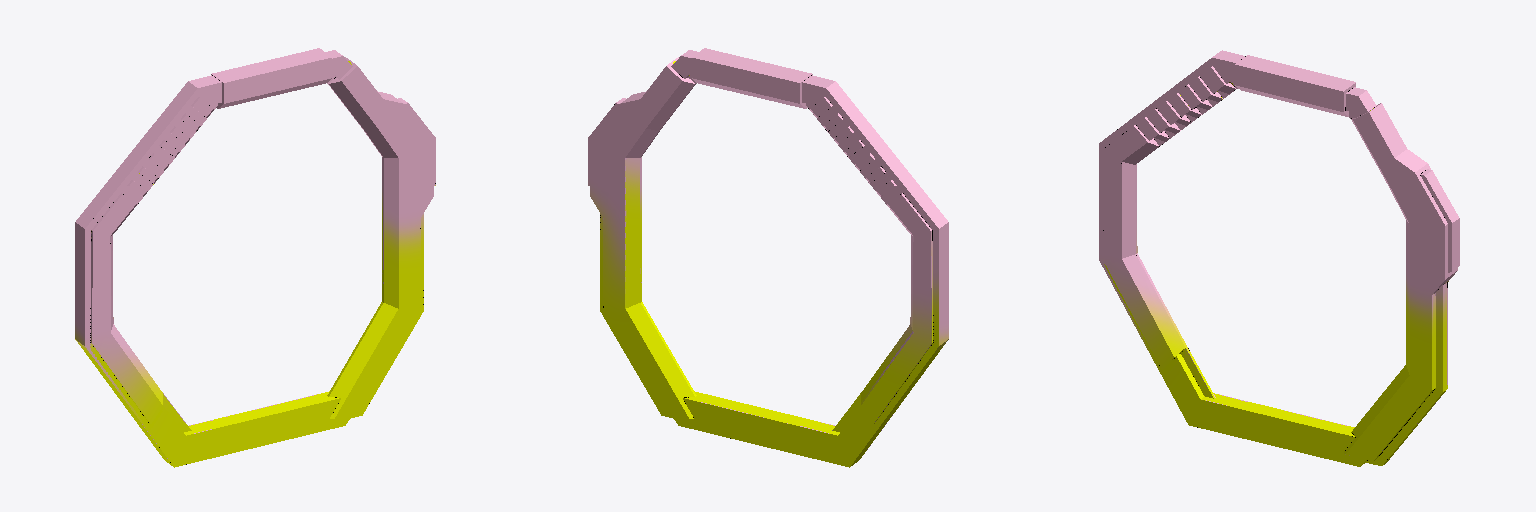
The picture shows the model from 3 angles: view 1: azimuth 30°, elevation 25°; view 2: azimuth 150°, elevation 25°; view 3: azimuth 330°, elevation 25°; orthographic projection.
Visible parts, largest first — view 1: Ring_Straight_1_Cube; view 2: Ring_Straight_1_Cube; view 3: Ring_Straight_1_Cube.
Part boxes in pixels (bbox=[...]): Ring_Straight_1_Cube: bbox=[75, 48, 435, 467]; Ring_Straight_1_Cube: bbox=[588, 48, 948, 467]; Ring_Straight_1_Cube: bbox=[1099, 50, 1459, 466].
Size of the model in its own units: 19.59 by 19.89 by 1.24.
Materials: 1 (1 with a texture image).